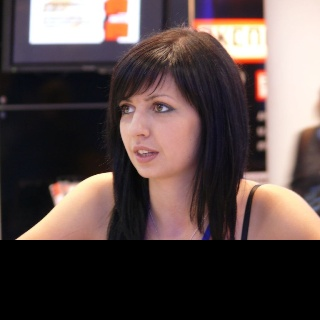without_mask: (119, 68, 201, 178)
